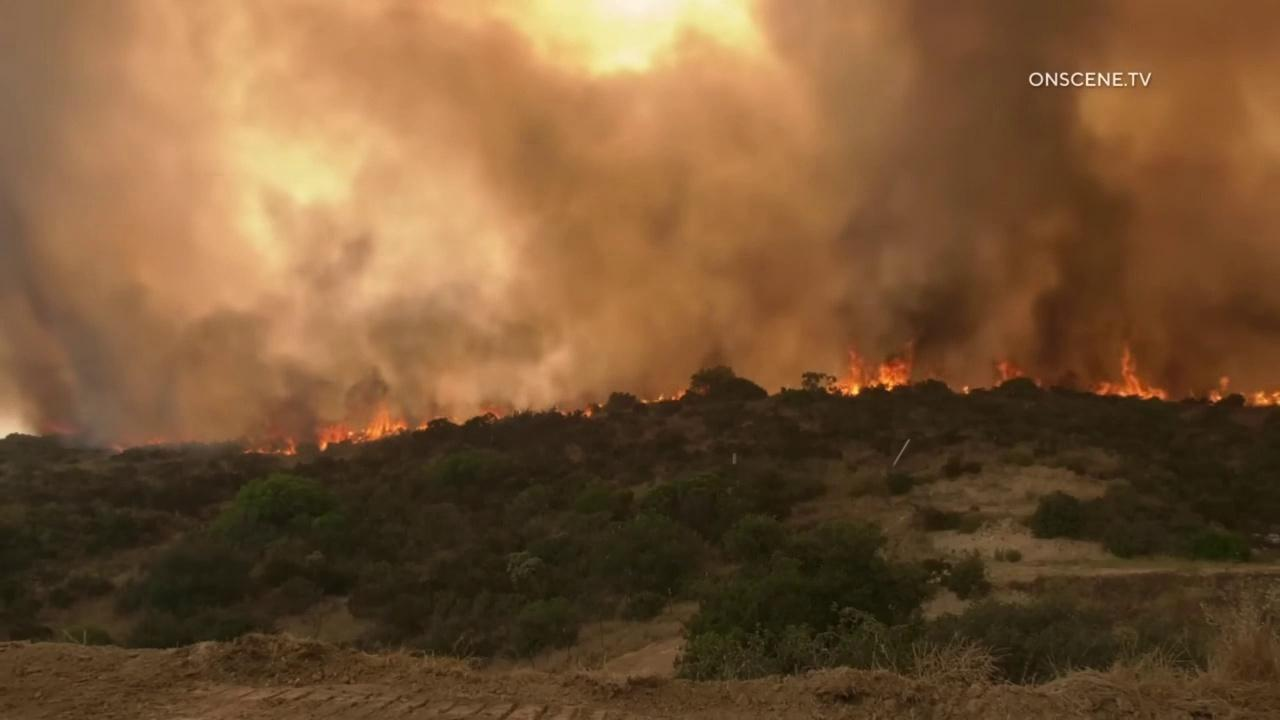fire: (825, 341, 914, 398), (1094, 337, 1169, 401), (318, 401, 408, 453), (993, 359, 1025, 388), (641, 388, 687, 404), (1240, 389, 1280, 407), (1209, 375, 1229, 405), (281, 438, 298, 457), (479, 408, 502, 420), (415, 420, 429, 432), (583, 408, 593, 418), (962, 385, 970, 395), (244, 447, 252, 455), (560, 410, 568, 418), (256, 448, 265, 455), (597, 403, 604, 408)
smoke: (0, 0, 1280, 454)
